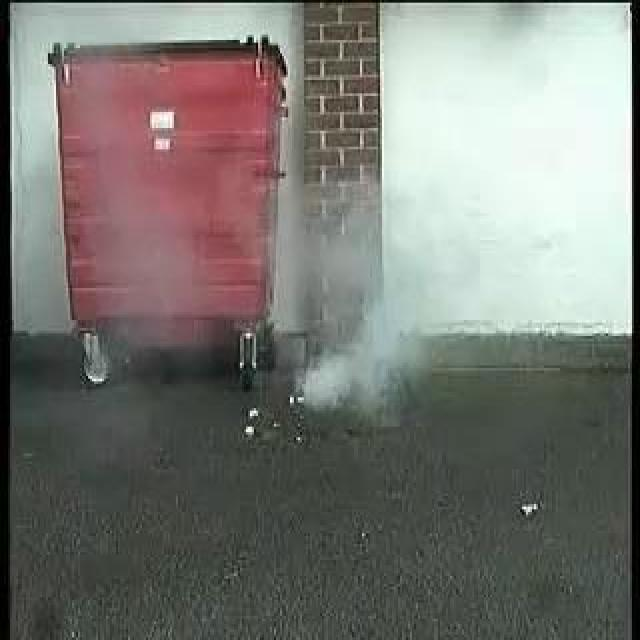Smoke: (275, 199, 481, 409)
